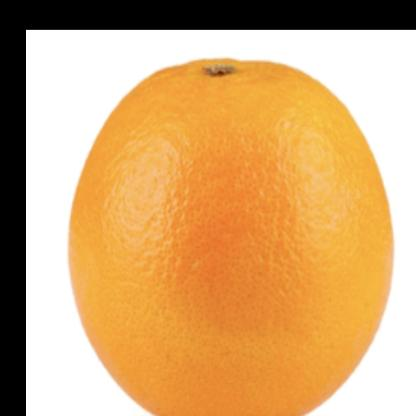fresh: (74, 59, 393, 416)
